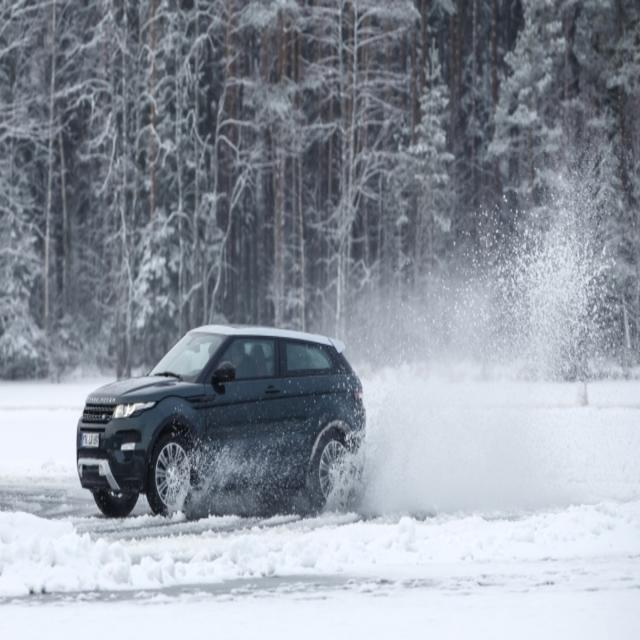car: (80, 322, 370, 524)
